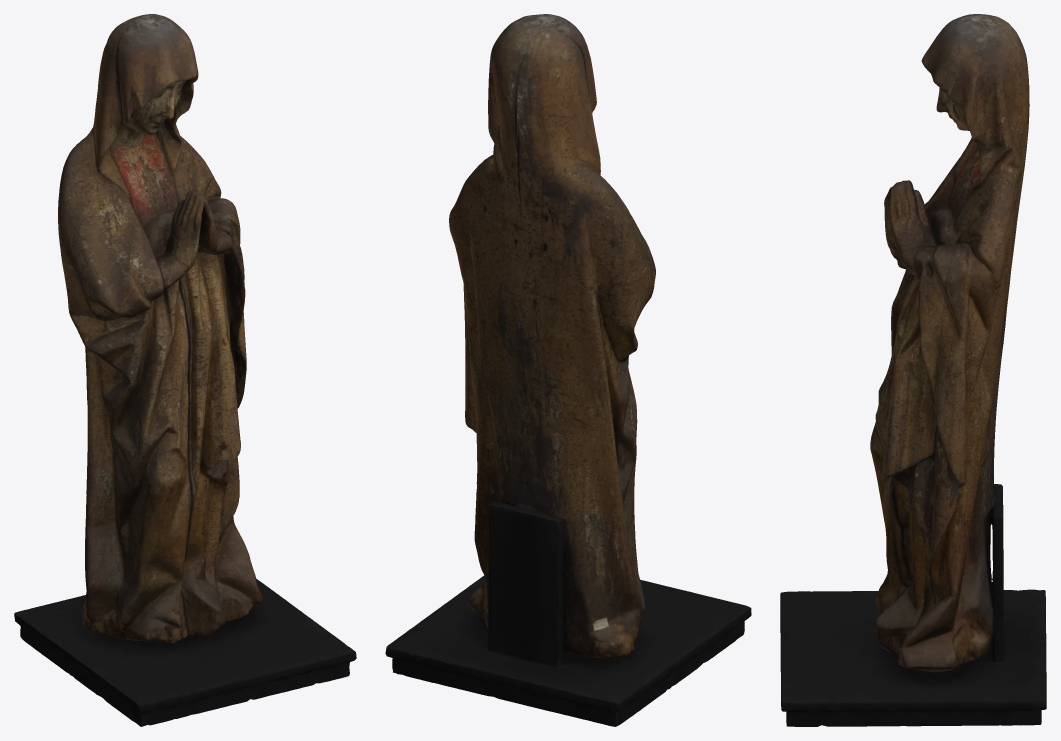
The model's file is preview.glb.
3 renders of one model, left to right at view 1: azimuth 30°, elevation 25°; view 2: azimuth 150°, elevation 25°; view 3: azimuth 270°, elevation 25°, orthographic. The views are drawn at different scales.
Parts seen in each view (by area): view 1: Object_3; view 2: Object_3; view 3: Object_3.
Part boxes in pixels (x1,y1,x2,y2): Object_3: (14,14,356,726); Object_3: (385,14,751,726); Object_3: (780,14,1046,726).
Size of the model in its own units: 471 by 1272 by 471.
Materials: 1 (1 with a texture image).
